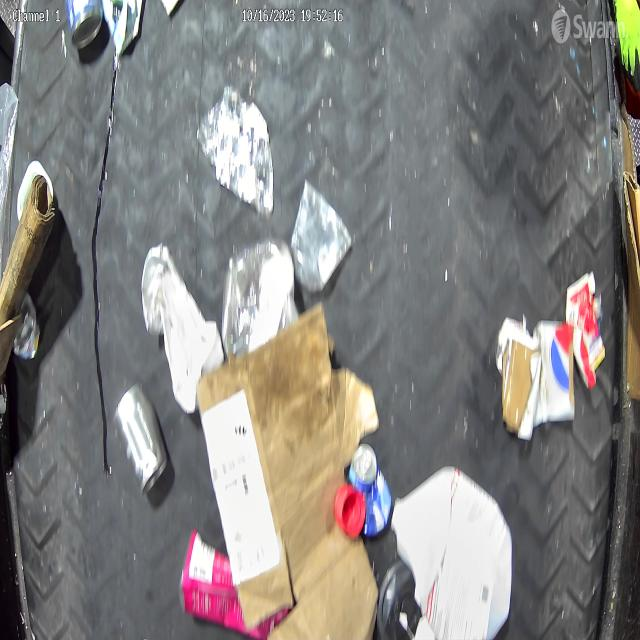can: (108, 382, 170, 490), (349, 442, 391, 539), (65, 0, 106, 54)
milk_jug: (393, 464, 511, 640)
